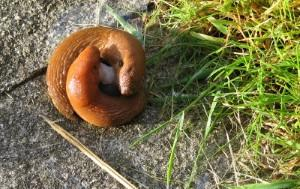slug: (38, 8, 154, 137)
